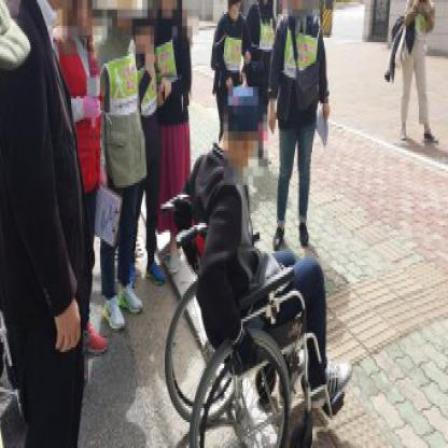wheel: (163, 88, 350, 447)
